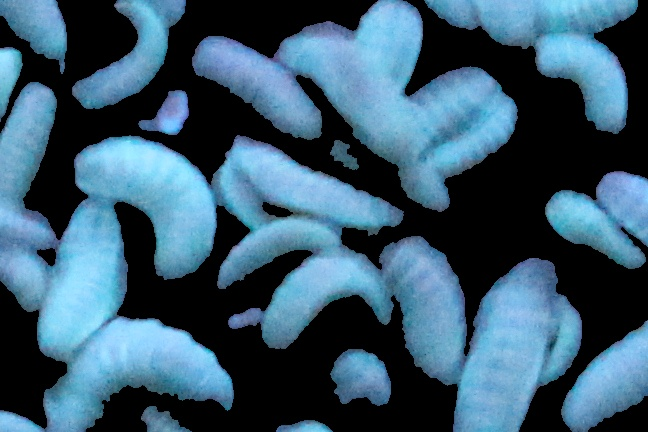larvae: (62, 128, 226, 289), (453, 237, 561, 428), (41, 330, 242, 425), (219, 133, 404, 231), (274, 12, 410, 141), (259, 248, 398, 357), (63, 1, 178, 118), (188, 30, 322, 130), (526, 25, 639, 138), (43, 199, 130, 341), (381, 241, 470, 375), (1, 64, 65, 225), (210, 220, 352, 285), (539, 185, 648, 267), (565, 329, 648, 432), (391, 61, 498, 139), (417, 99, 521, 172), (1, 1, 76, 71), (551, 291, 584, 379)
